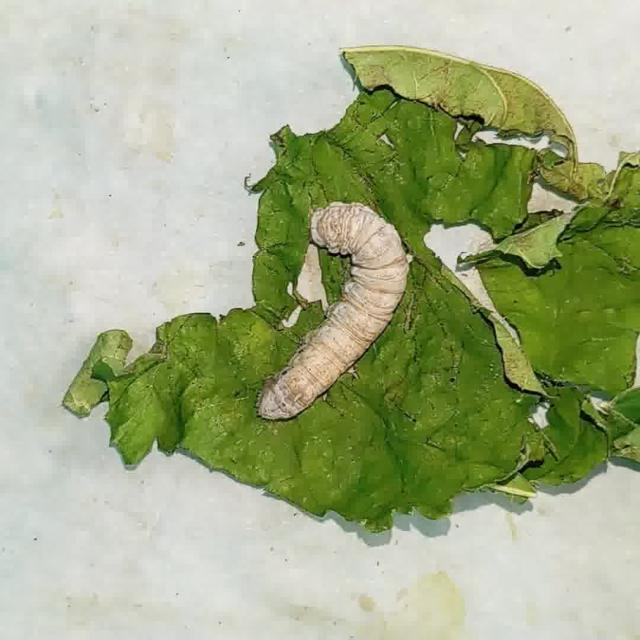Grasserie: (252, 170, 447, 448)
